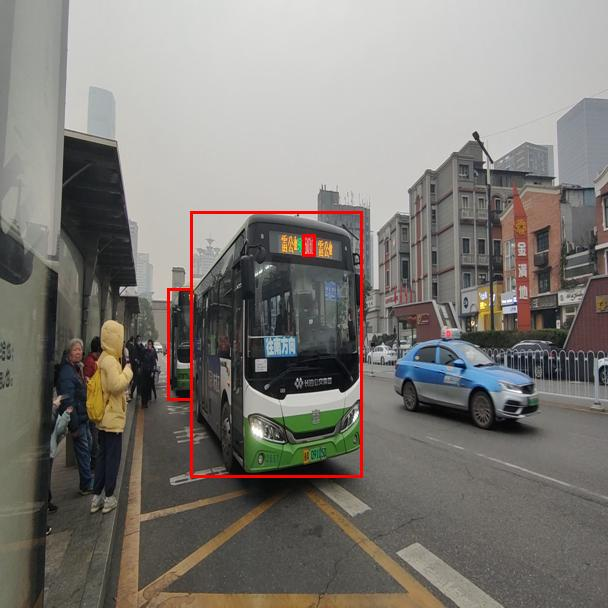bus: (190, 211, 362, 477), (167, 288, 192, 400)
screen: (302, 234, 315, 256)
